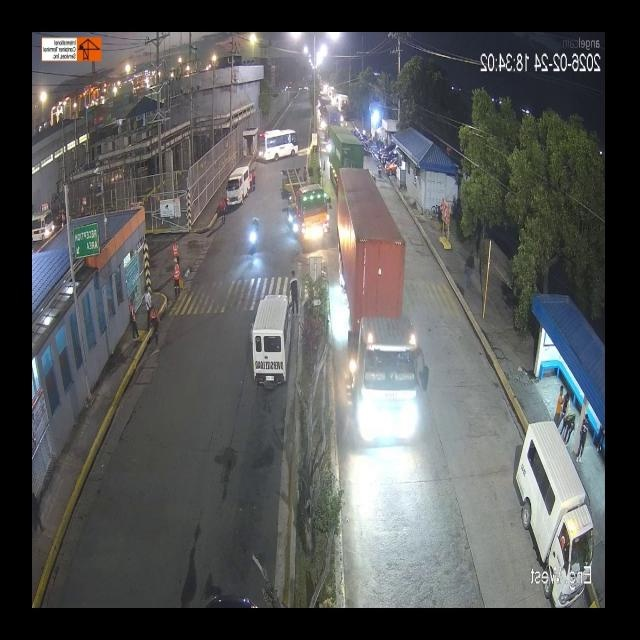bus: (255, 123, 303, 168)
car: (523, 412, 586, 558), (236, 288, 292, 393), (227, 167, 249, 211)
truck: (334, 171, 418, 447), (278, 151, 326, 252), (272, 122, 328, 198)
